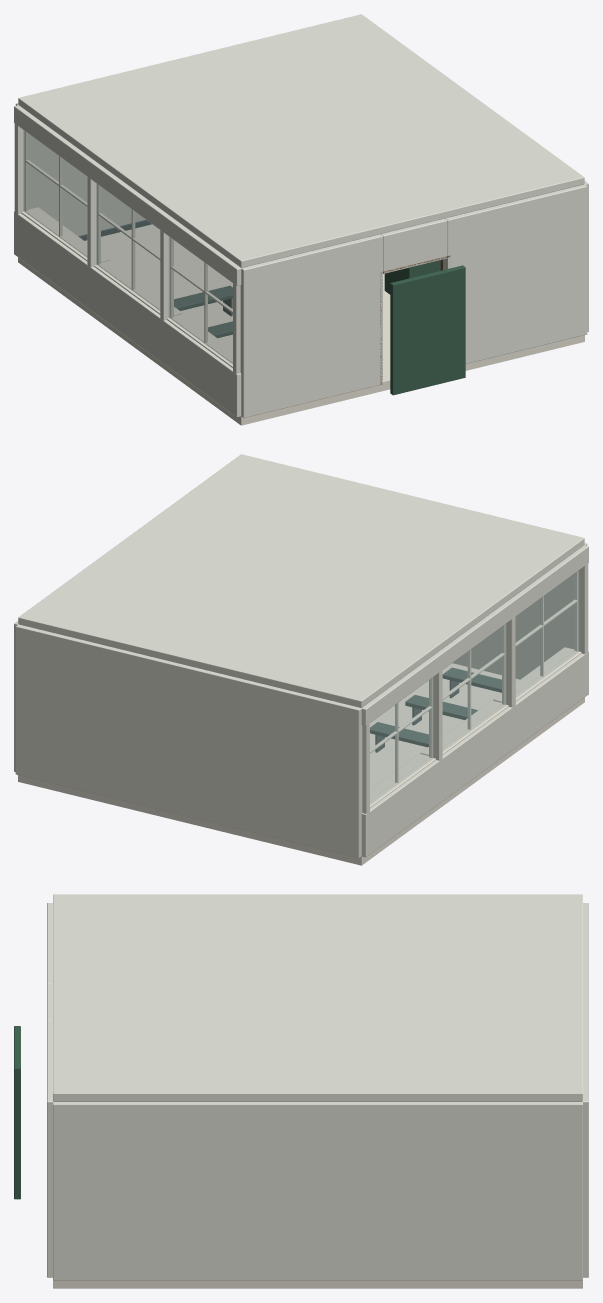
The picture shows the model from 3 angles, top to bottom: view 1: azimuth 30°, elevation 25°; view 2: azimuth 150°, elevation 25°; view 3: azimuth 270°, elevation 25°; orthographic projection. The views are drawn at different scales.
Parts seen in each view (by area): view 1: 2-2__architecture_and_equipment; view 2: 2-2__architecture_and_equipment; view 3: 2-2__architecture_and_equipment.
Part boxes in pixels (<box>): 2-2__architecture_and_equipment: <box>14,14,588,425</box>; 2-2__architecture_and_equipment: <box>14,454,588,865</box>; 2-2__architecture_and_equipment: <box>14,894,588,1288</box>.
Size of the model in its own units: 8.2 by 3.66 by 9.76.
11 materials, 1 textured.
